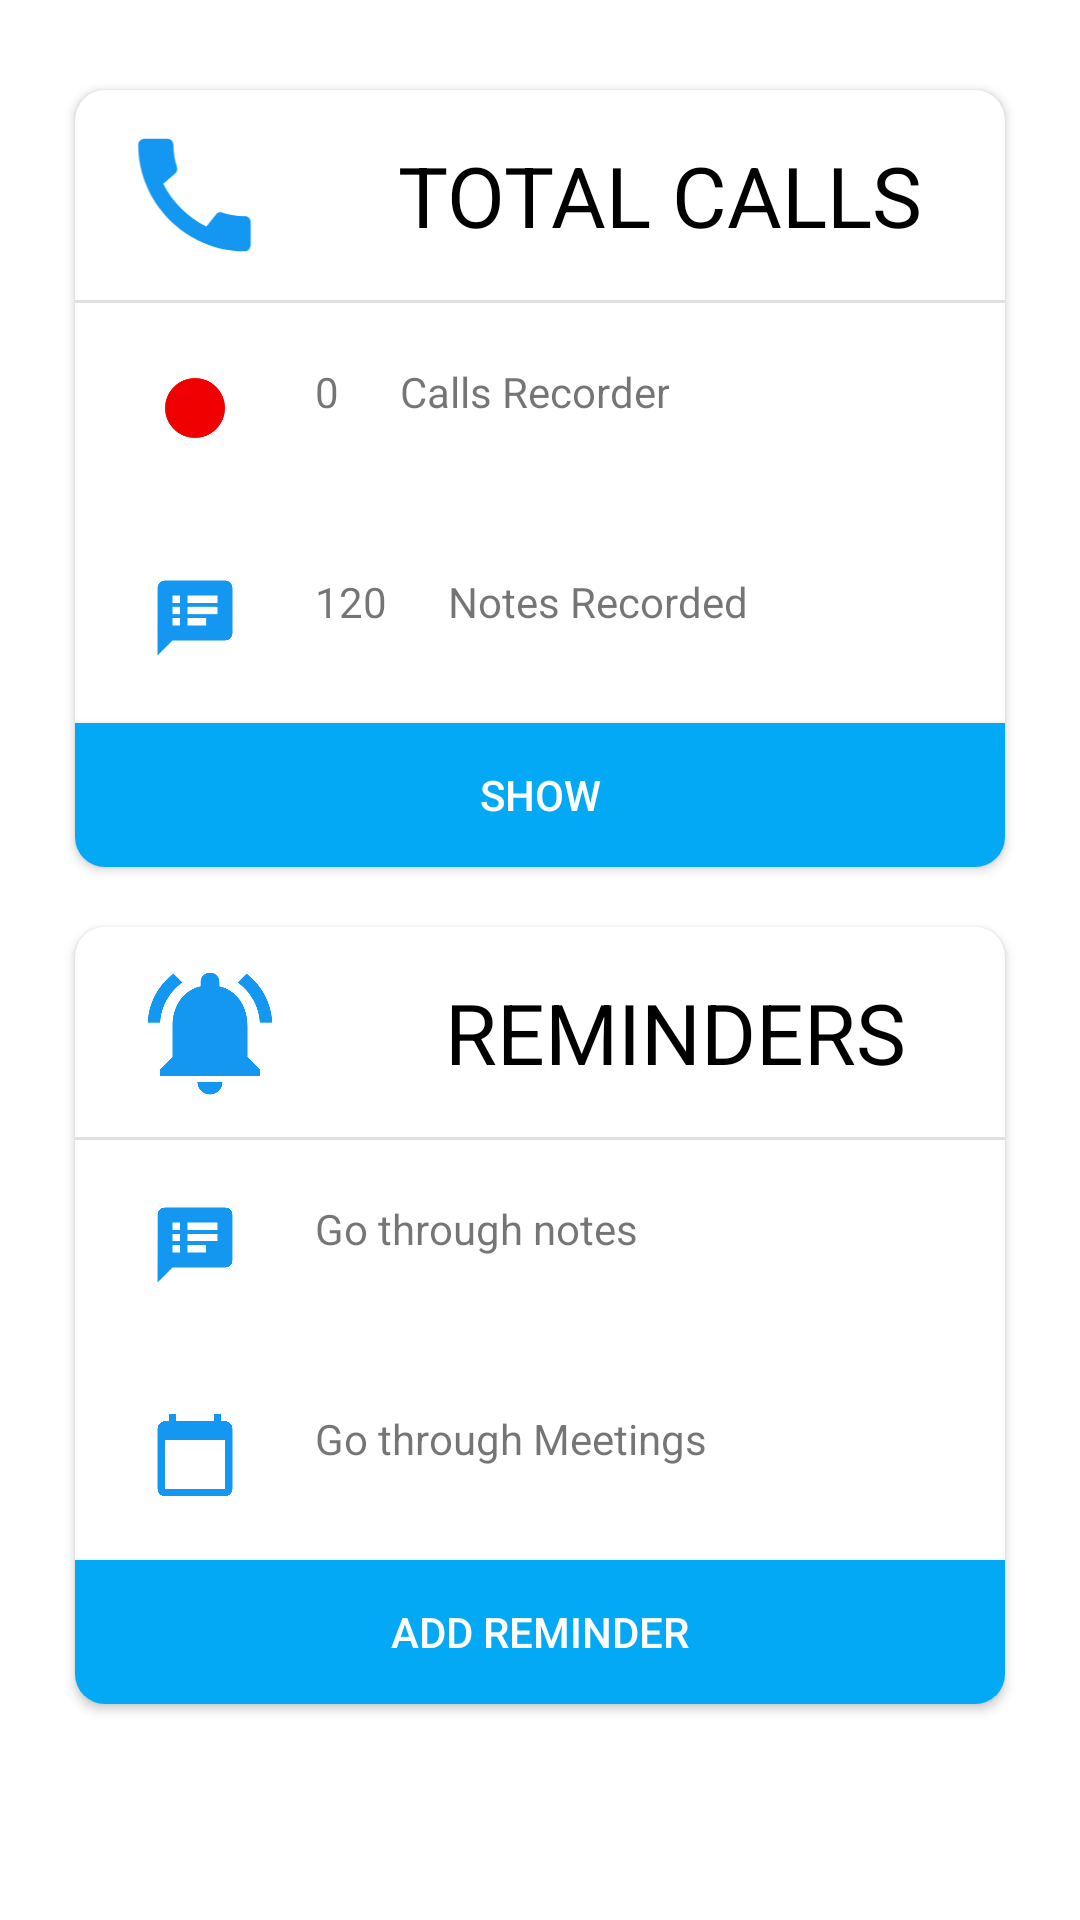

Icons on this 1080 × 1920 Android screen, each with its box as [x1=x1, y1=y1, x2=x2, y2=y2]:
calendar: [x1=157, y1=1414, x2=233, y2=1496]
